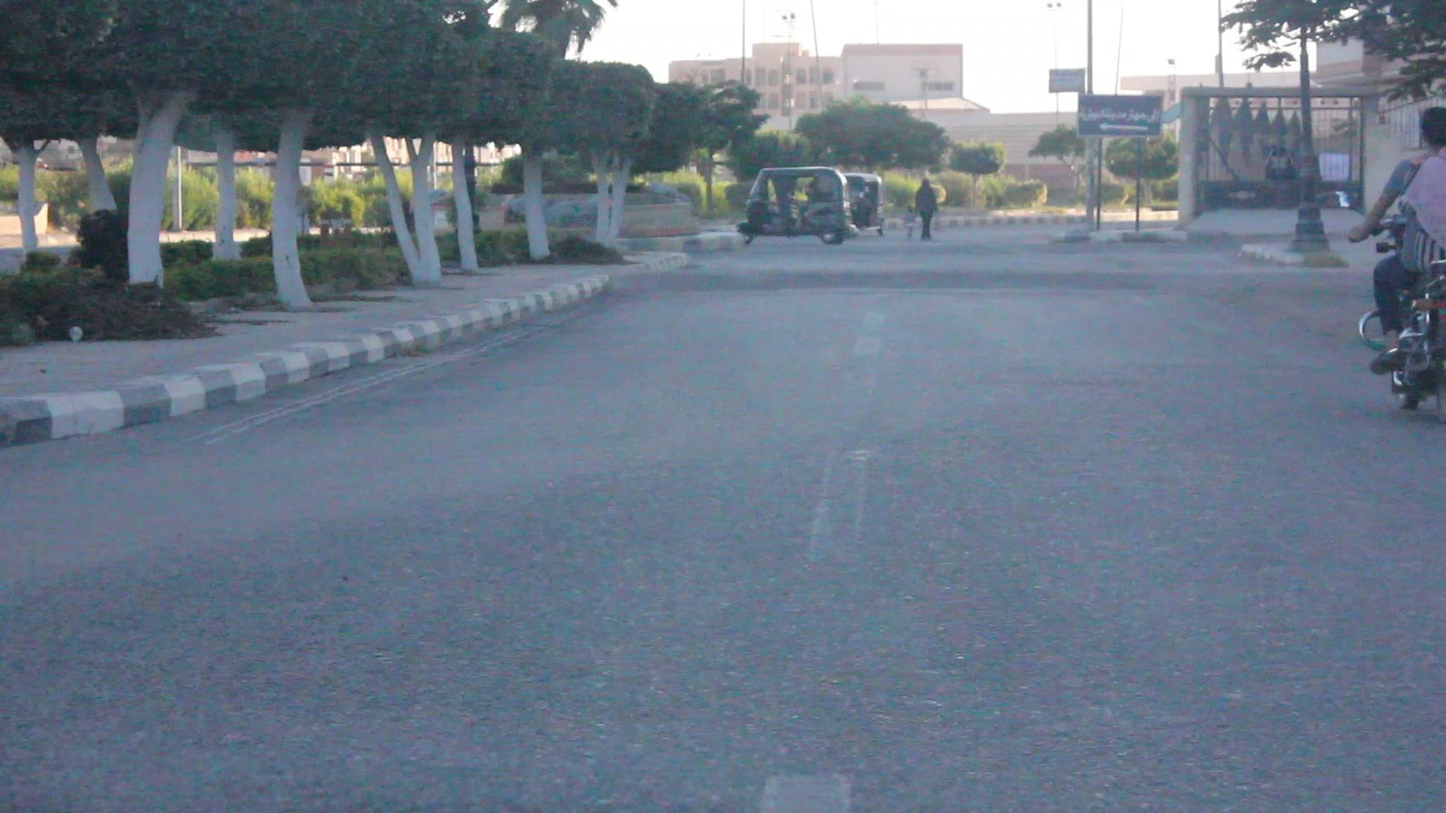Bump: (612, 262, 1307, 292)
